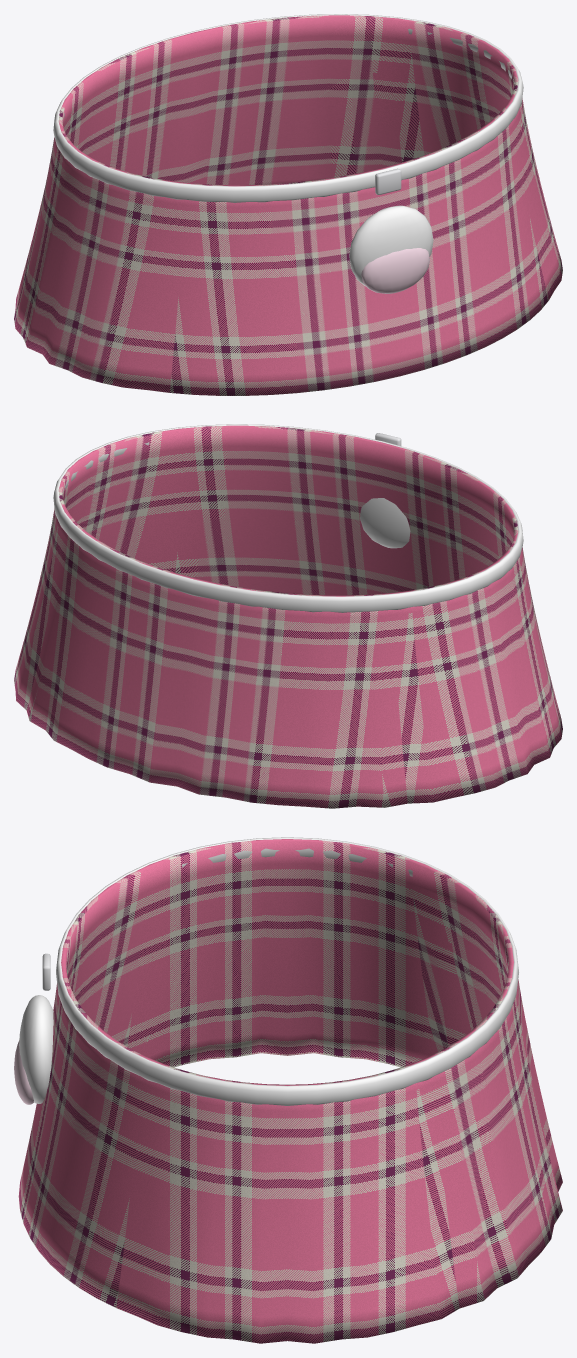
Rendered from kilt3.fbx.
3 views of the same model, one above another, from view 1: azimuth 30°, elevation 25°; view 2: azimuth 150°, elevation 25°; view 3: azimuth 270°, elevation 25° (orthographic). The views are drawn at different scales.
Visible parts, largest first — view 1: kilt3; view 2: kilt3; view 3: kilt3.
Part boxes in pixels (x1,y1,x2,y2): kilt3: (14,14,562,395); kilt3: (14,424,562,808); kilt3: (14,837,562,1343).
Bounding box in the file's own units: 1.02 × 0.385 × 0.8049.
Materials: 4 (1 with a texture image).
